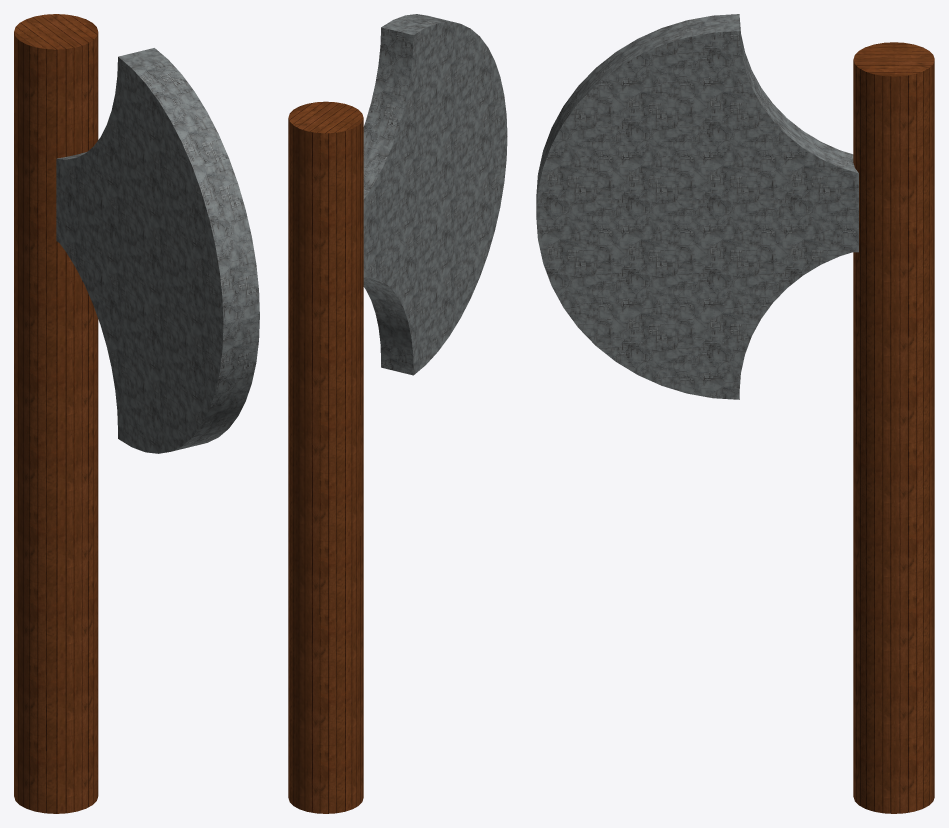
The model's file is Axe.glb.
3 views of the same model, side by side, from view 1: azimuth 30°, elevation 25°; view 2: azimuth 150°, elevation 25°; view 3: azimuth 270°, elevation 25° (orthographic). The views are drawn at different scales.
Visible parts, largest first — view 1: mergedBlocks(Clone); view 2: mergedBlocks(Clone); view 3: mergedBlocks(Clone).
Boxes of the visible parts, x1=… form: mergedBlocks(Clone): x1=14, y1=14, x2=259, y2=813; mergedBlocks(Clone): x1=288, y1=14, x2=507, y2=813; mergedBlocks(Clone): x1=536, y1=14, x2=934, y2=813.
Size of the model in its own units: 0.05 by 0.525 by 0.245.
2 materials, 2 textured.
